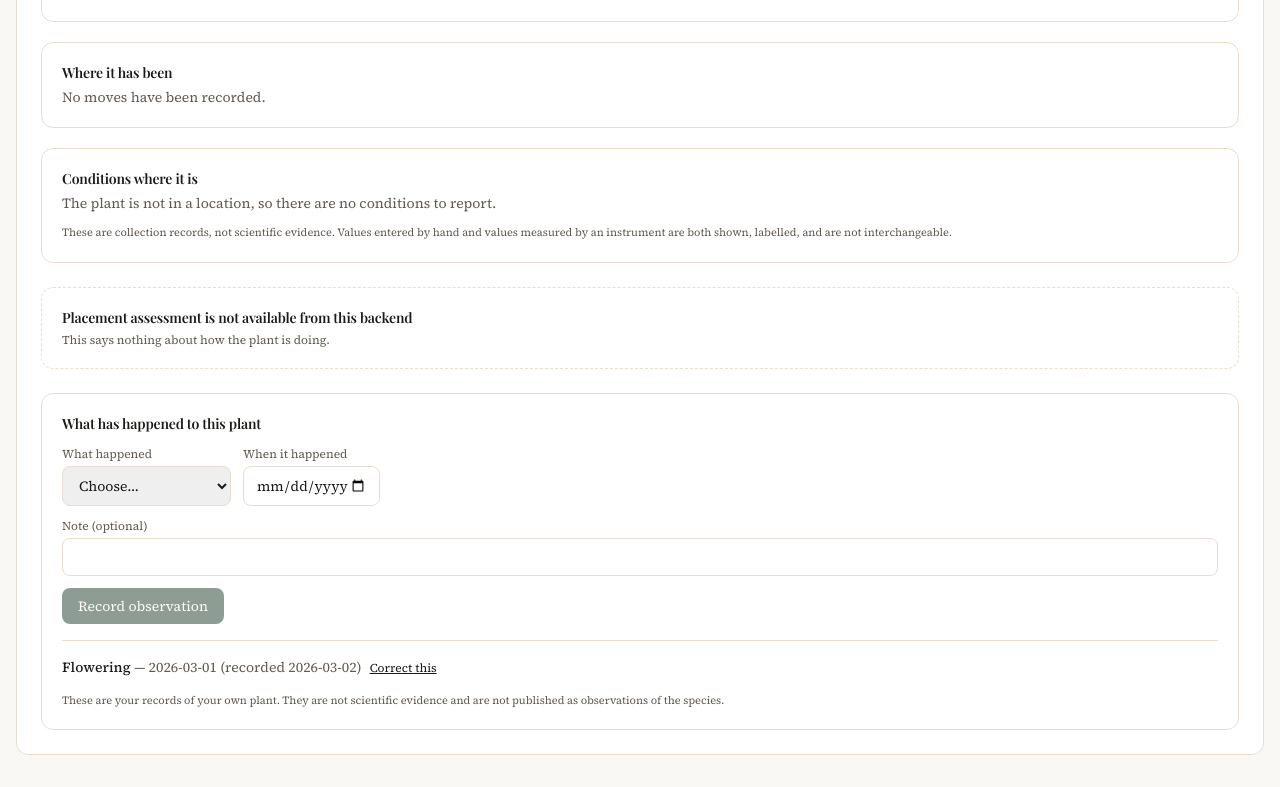
Scenario: MyConservatory correcting an observation › can be cancelled back to recording a new observation
(page scrolled)
Click the button "Correct this": coordinates (403, 668) x1=370 y1=660 x2=437 y2=676
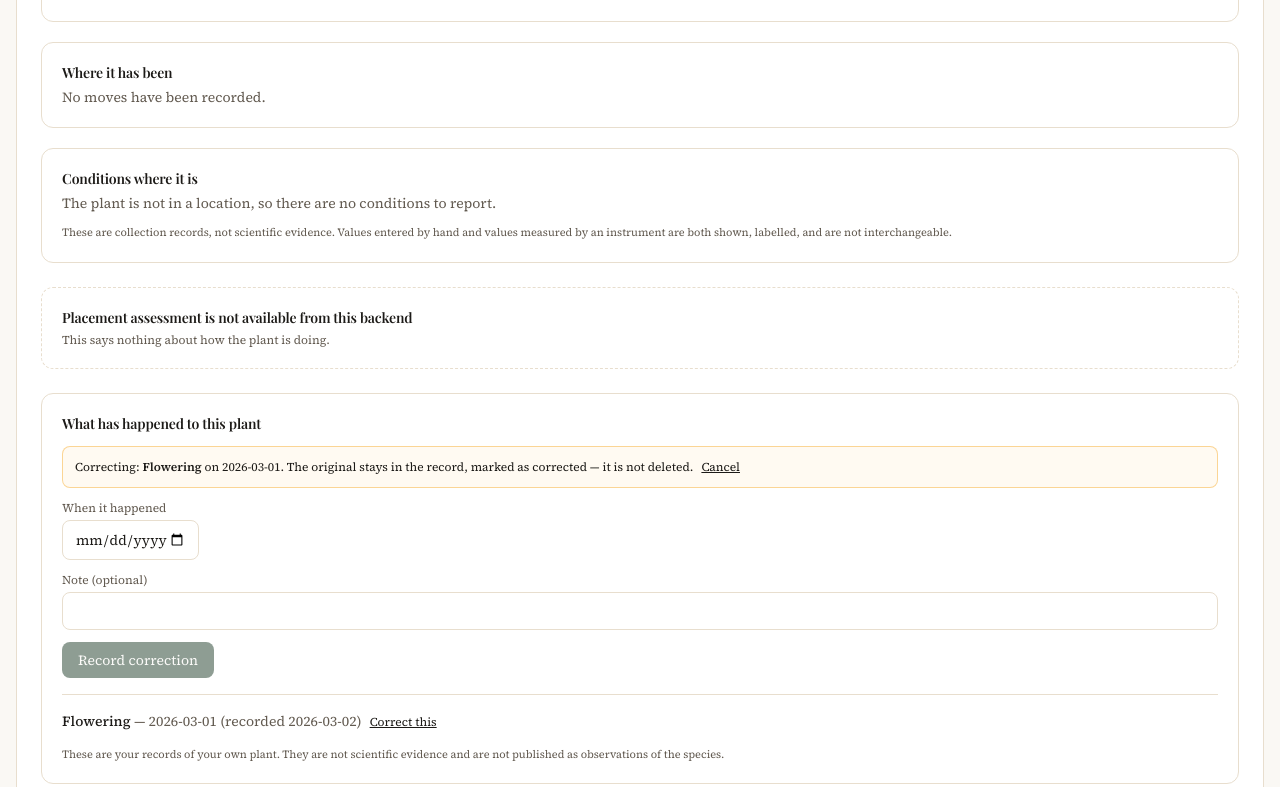
Click the button "Cancel": coordinates (721, 466) x1=701 y1=458 x2=740 y2=474
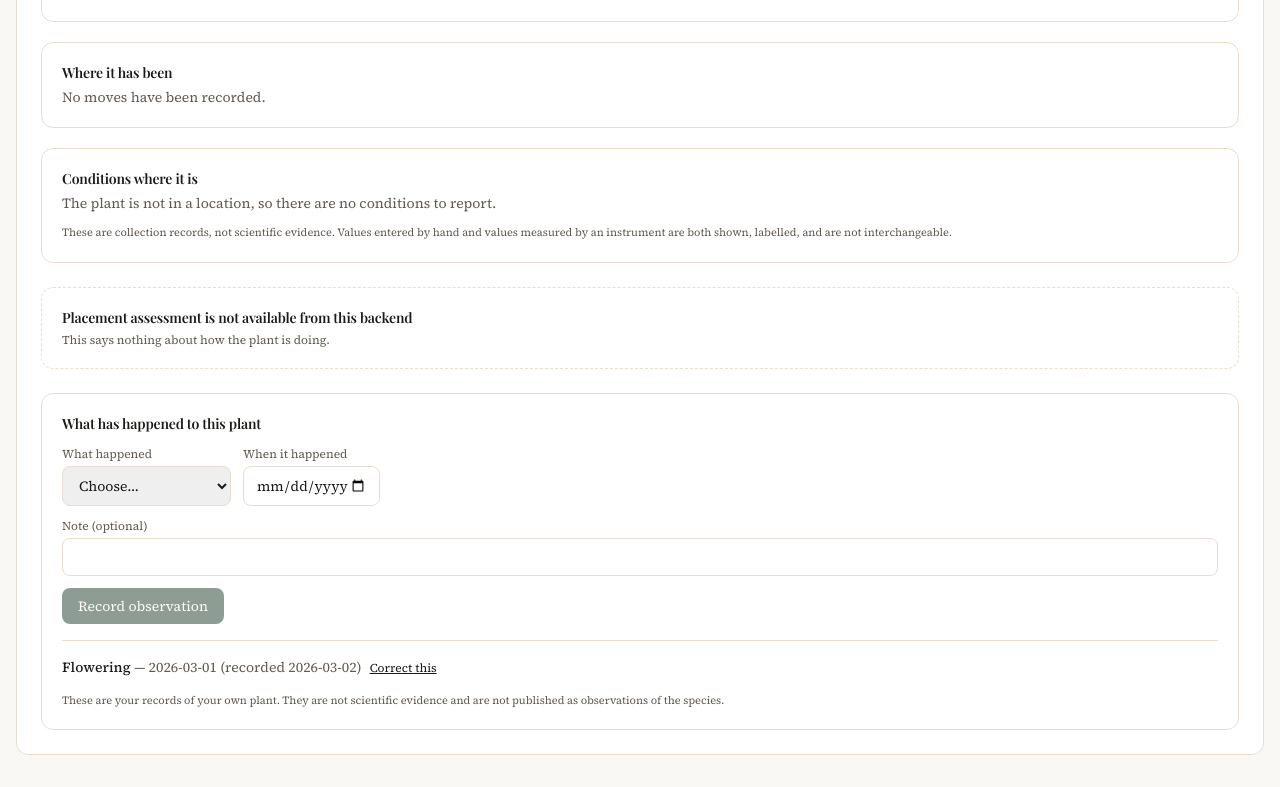
Now the element with test id "correcting-banner" is gone
Now the dropdown with test id "event-kind" is shown, box x1=62 y1=466 x2=231 y2=506
